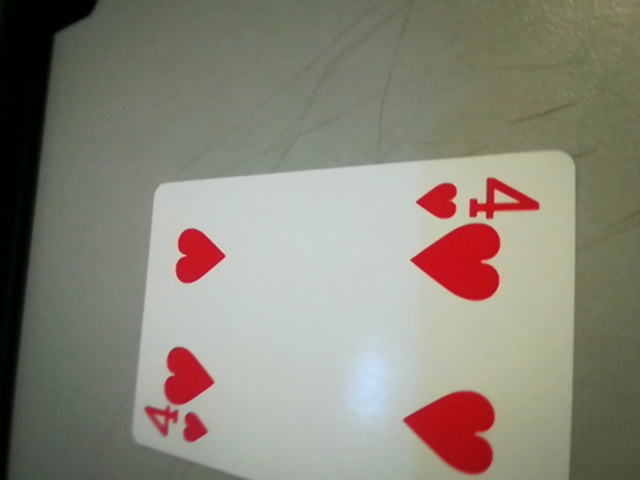hx 4: (412, 174, 550, 226)
